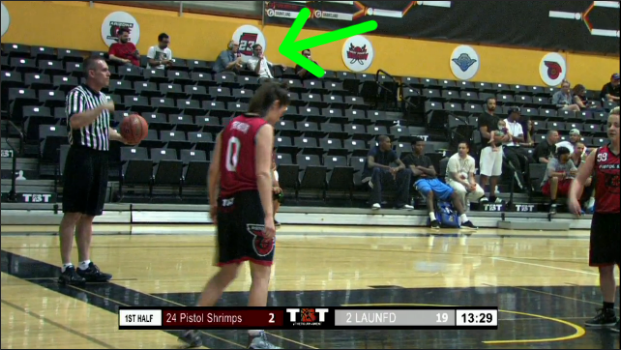ball: (118, 115, 149, 145)
player: (192, 84, 297, 310), (60, 58, 115, 285), (569, 114, 621, 335)
